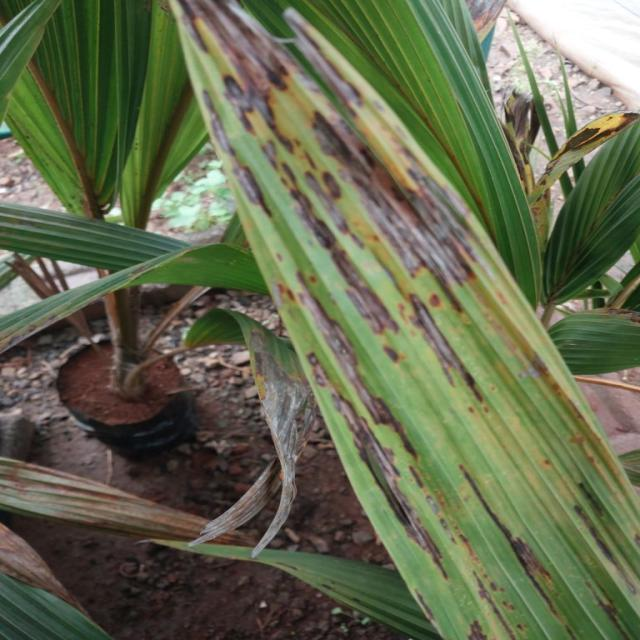gray leaf spot: (184, 5, 640, 637)
